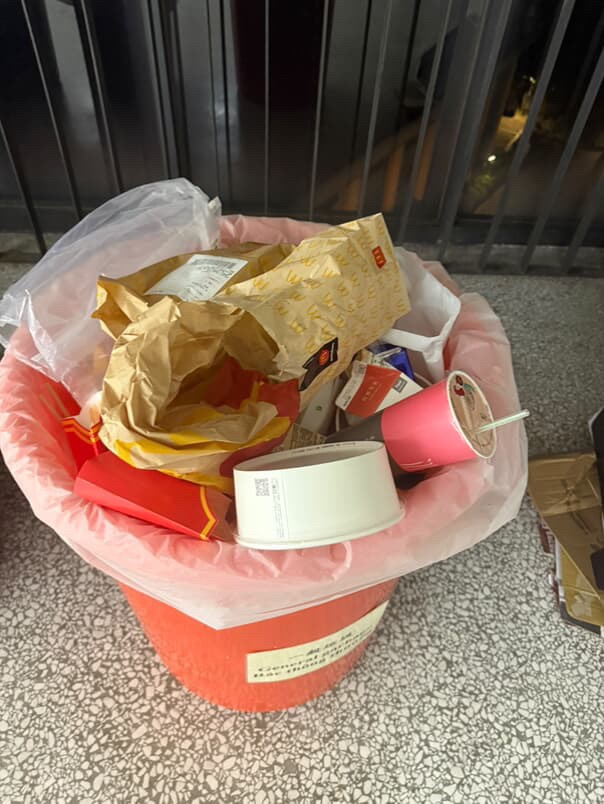overflow_bin: (2, 181, 545, 724)
